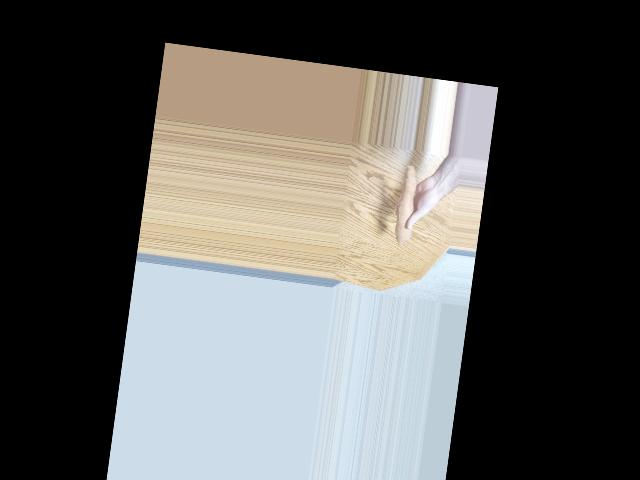sweet_potato: (391, 164, 423, 241)
